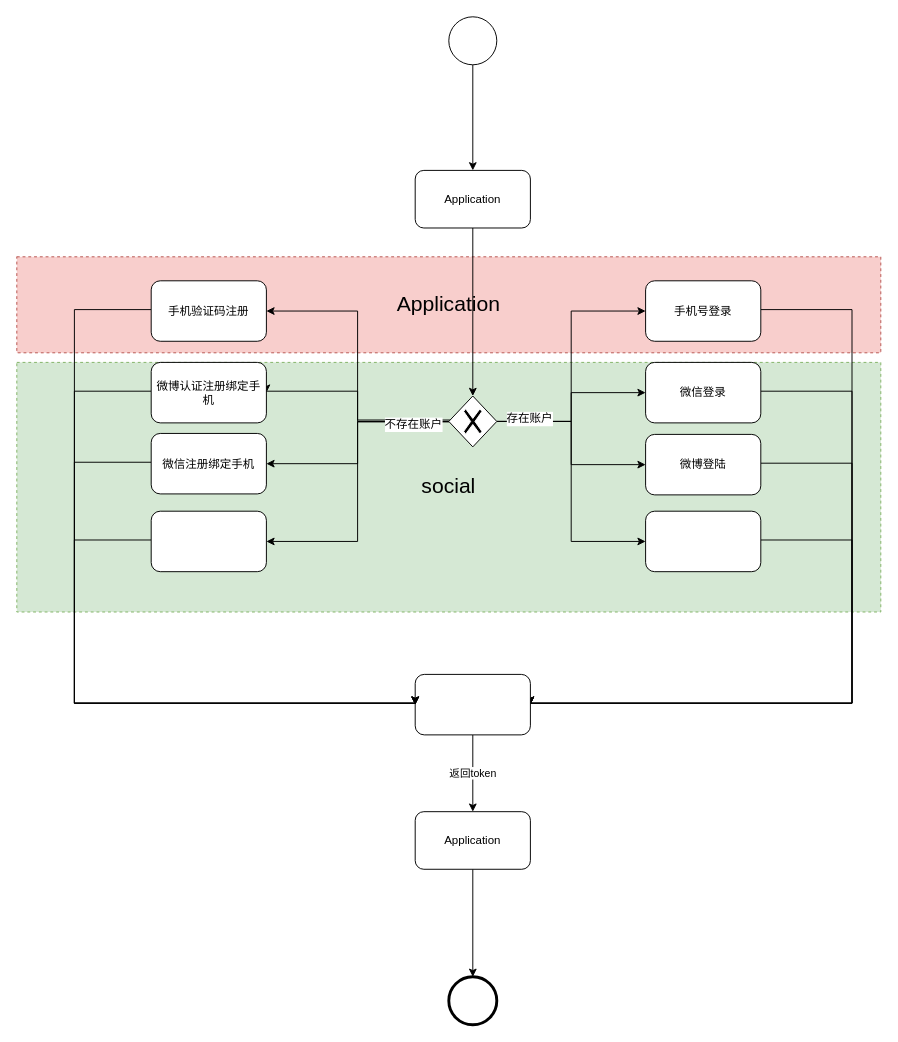
Some shapes in this 898 by 1042 pixel diagram are drawn without their labels. Here are the shapes that lost their labels. From the top down, the box of each, then its label:
(448, 16, 497, 65): 用户登录
(150, 510, 266, 572): QQ注册绑定手机
(645, 510, 761, 572): QQ登录
(414, 673, 530, 735): oauth
